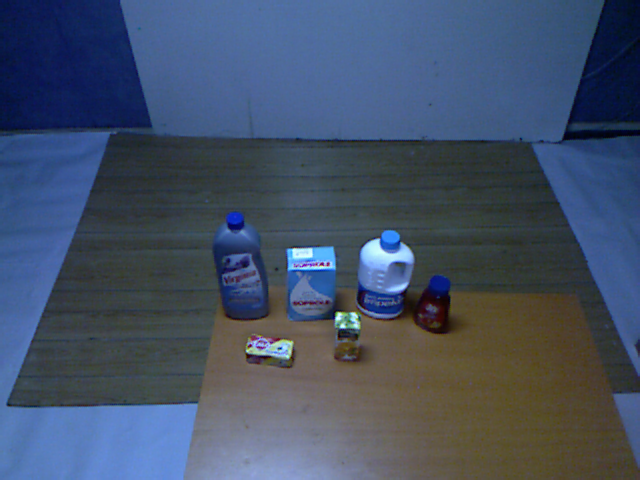cera: (207, 208, 275, 324)
cloro: (352, 227, 422, 325)
jugoind: (328, 308, 369, 368)
ketchup: (413, 269, 455, 335)
leche: (283, 240, 344, 323)
mantequilla: (241, 332, 297, 371)
